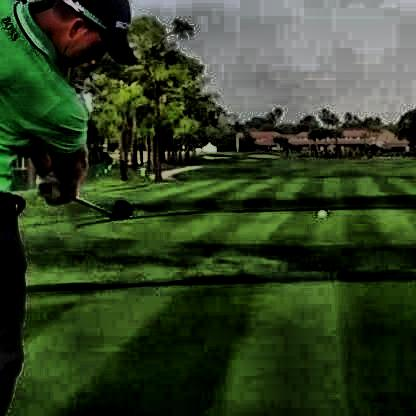golfball: (315, 206, 325, 215)
